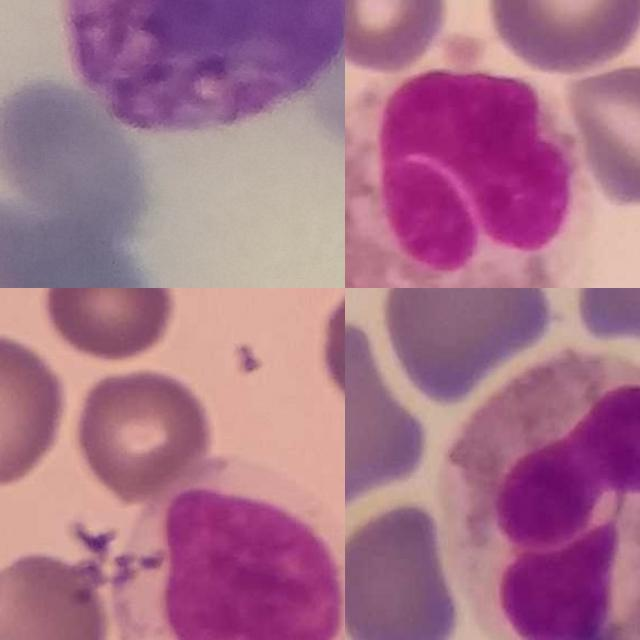Basophil: (66, 0, 345, 136)
Eosinophil: (345, 54, 597, 288), (440, 351, 640, 640)
Lymphocyte: (115, 455, 345, 640)
